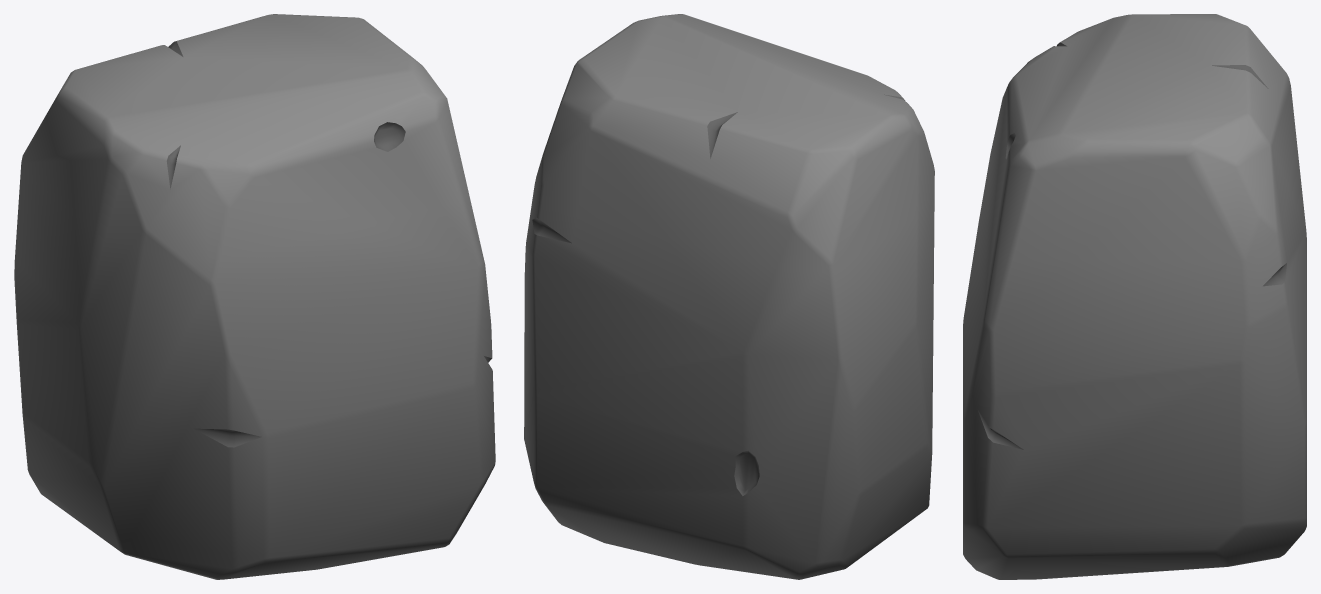
File: Rock06.fbx
3 views of the same model, side by side, from view 1: azimuth 30°, elevation 25°; view 2: azimuth 150°, elevation 25°; view 3: azimuth 270°, elevation 25° (orthographic).
Visible parts, largest first — view 1: LOD0; view 2: LOD0; view 3: LOD0.
Boxes of the visible parts, left/top/right/bottom form: LOD0: left=14, top=14, right=495, bottom=579; LOD0: left=524, top=14, right=934, bottom=579; LOD0: left=963, top=14, right=1306, bottom=579.
Size of what is drawn, in the model's own units: 350 by 308 by 436.
